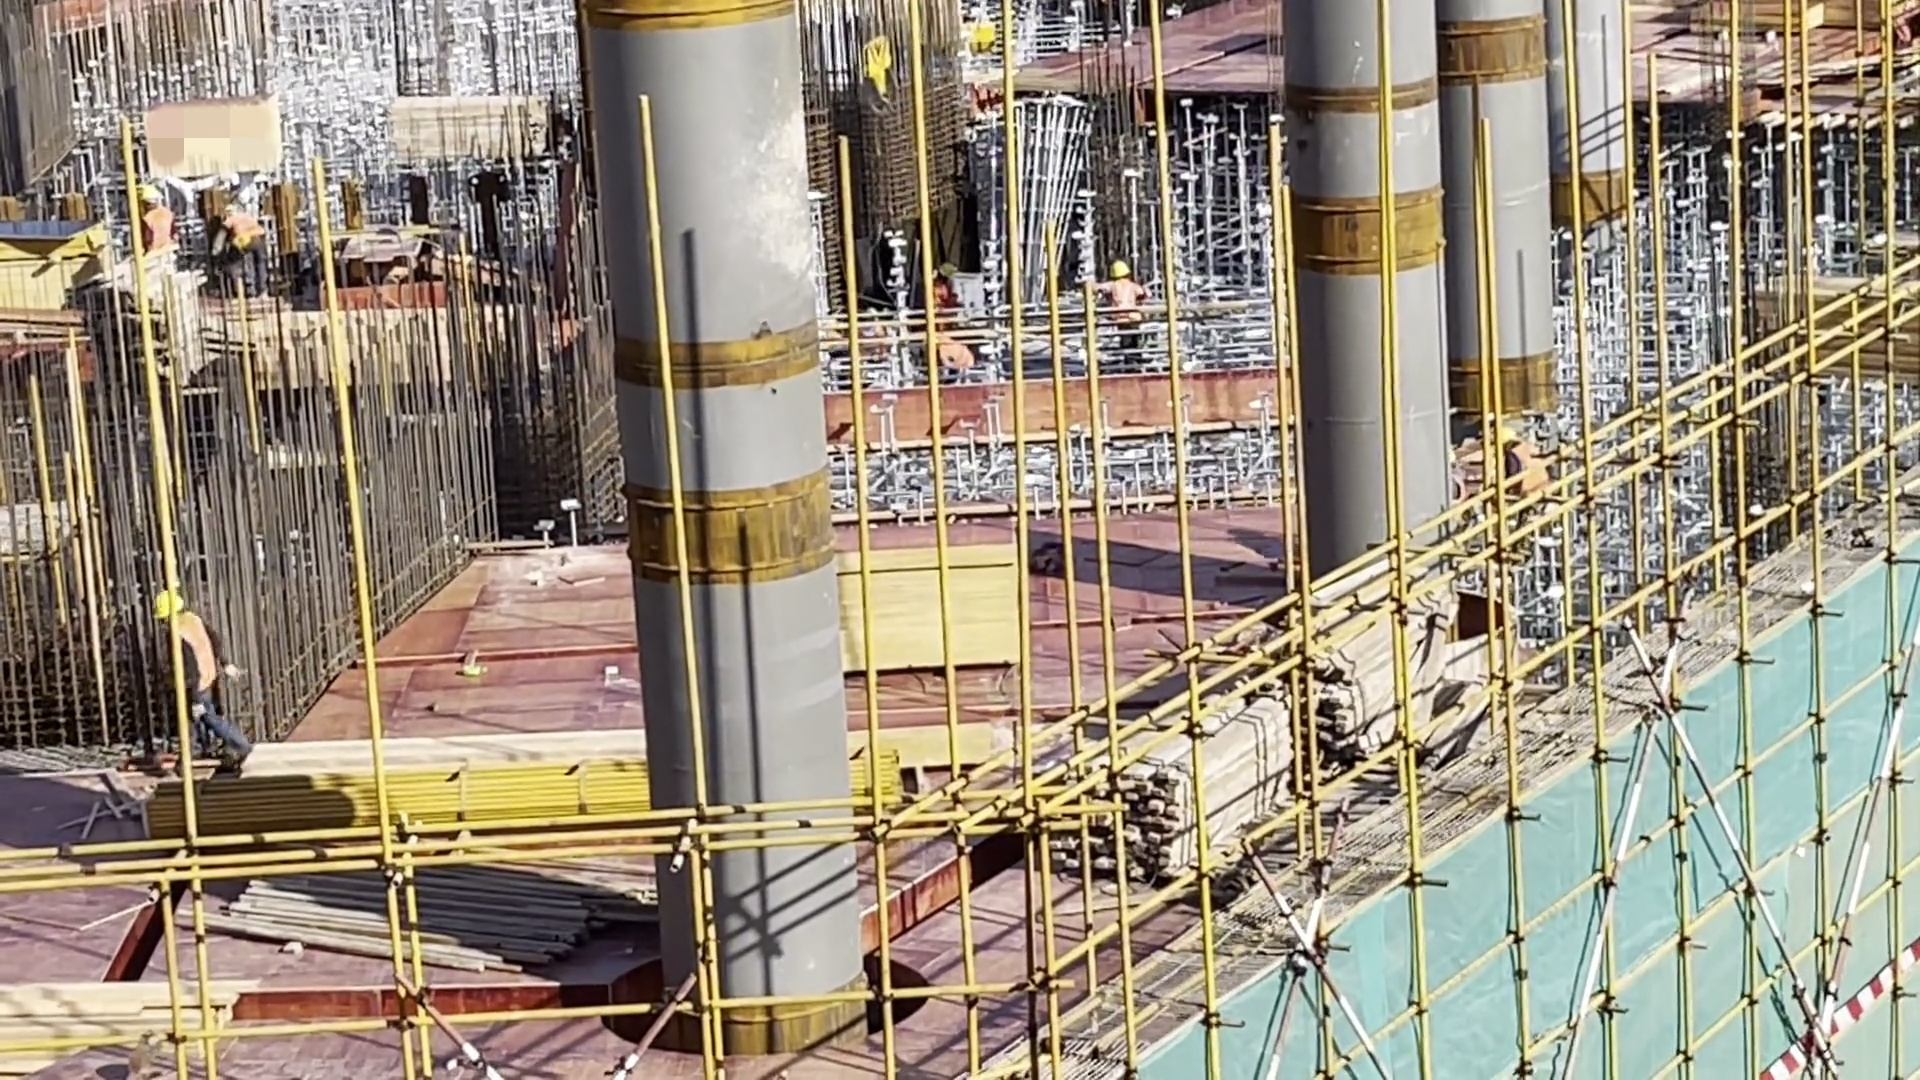helmet: (149, 585, 188, 627), (1093, 255, 1137, 284), (134, 186, 165, 209), (935, 262, 957, 289)
hook: (862, 27, 901, 122)
person: (144, 590, 248, 767), (1089, 258, 1158, 364), (215, 198, 278, 302), (125, 181, 183, 262)
vest: (159, 614, 222, 708)
wood: (1034, 680, 1317, 883), (233, 826, 591, 981), (1263, 553, 1504, 776)
